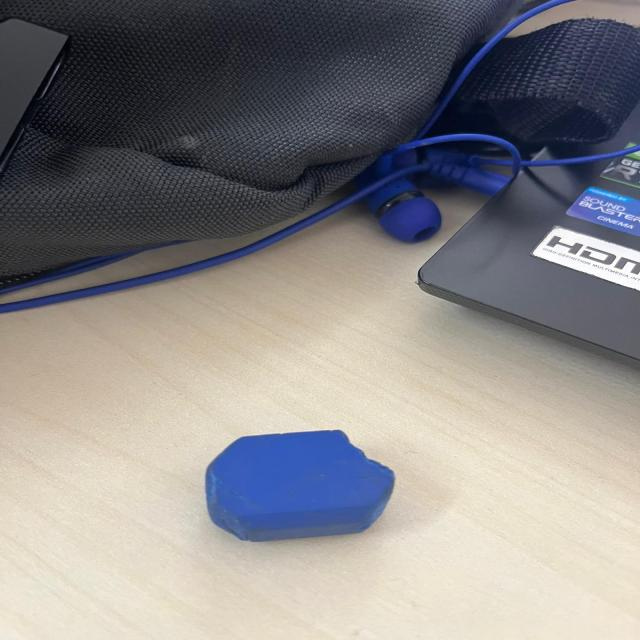eraser: (199, 415, 406, 543)
